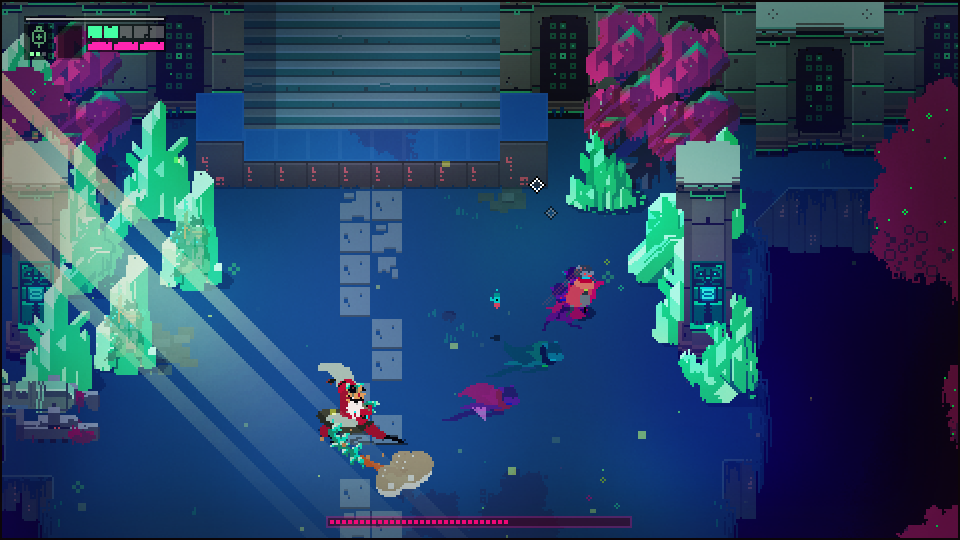hanged_man: (313, 361, 405, 472)
player: (561, 267, 603, 319)
